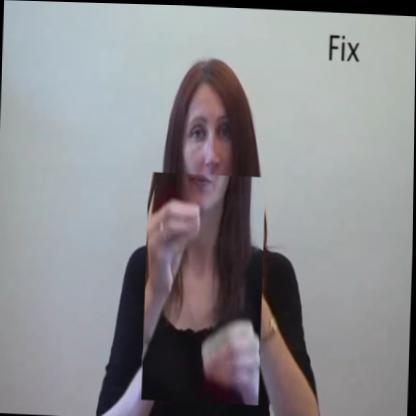Fix: (142, 170, 266, 403)
